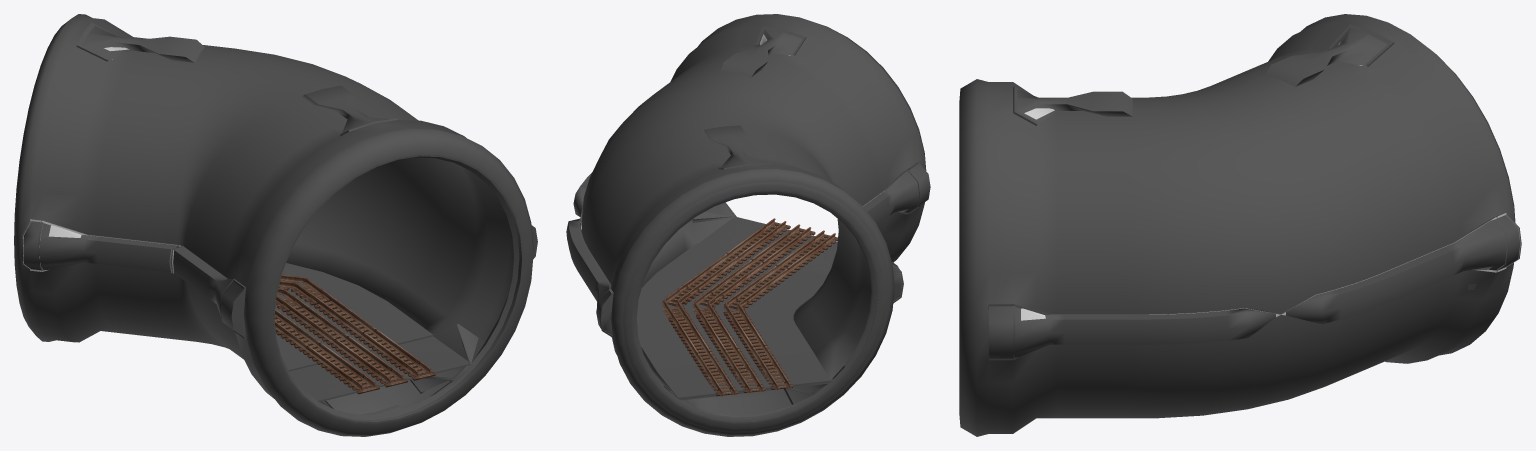
Rendered from subw_left.fbx.
3 views of the same model, side by side, from view 1: azimuth 30°, elevation 25°; view 2: azimuth 150°, elevation 25°; view 3: azimuth 270°, elevation 25° (orthographic). The views are drawn at different scales.
Visible parts, largest first — view 1: sw_L_tube, sw_L_LaM, sw_L_LaR, sw_L_LaL, sw_L_LaR_curve; view 2: sw_L_tube, sw_L_LaM, sw_L_LaR, sw_L_LaL, sw_L_LaR_curve, sw_L_LaM_curve; view 3: sw_L_tube.
Part boxes in pixels (x1=…): sw_L_tube: x1=14, y1=14, x2=537, y2=436; sw_L_LaM: x1=281, y1=297, x2=407, y2=387; sw_L_LaR: x1=309, y1=290, x2=435, y2=380; sw_L_LaL: x1=274, y1=309, x2=379, y2=394; sw_L_LaR_curve: x1=278, y1=274, x2=323, y2=302; sw_L_tube: x1=566, y1=14, x2=930, y2=436; sw_L_LaM: x1=696, y1=224, x2=815, y2=393; sw_L_LaR: x1=668, y1=218, x2=790, y2=396; sw_L_LaL: x1=723, y1=230, x2=837, y2=389; sw_L_LaR_curve: x1=662, y1=288, x2=695, y2=318; sw_L_LaM_curve: x1=693, y1=294, x2=719, y2=315; sw_L_tube: x1=959, y1=14, x2=1521, y2=436.
Bounding box in the file's own units: 256 × 185 × 290.
4 materials, 1 textured.
